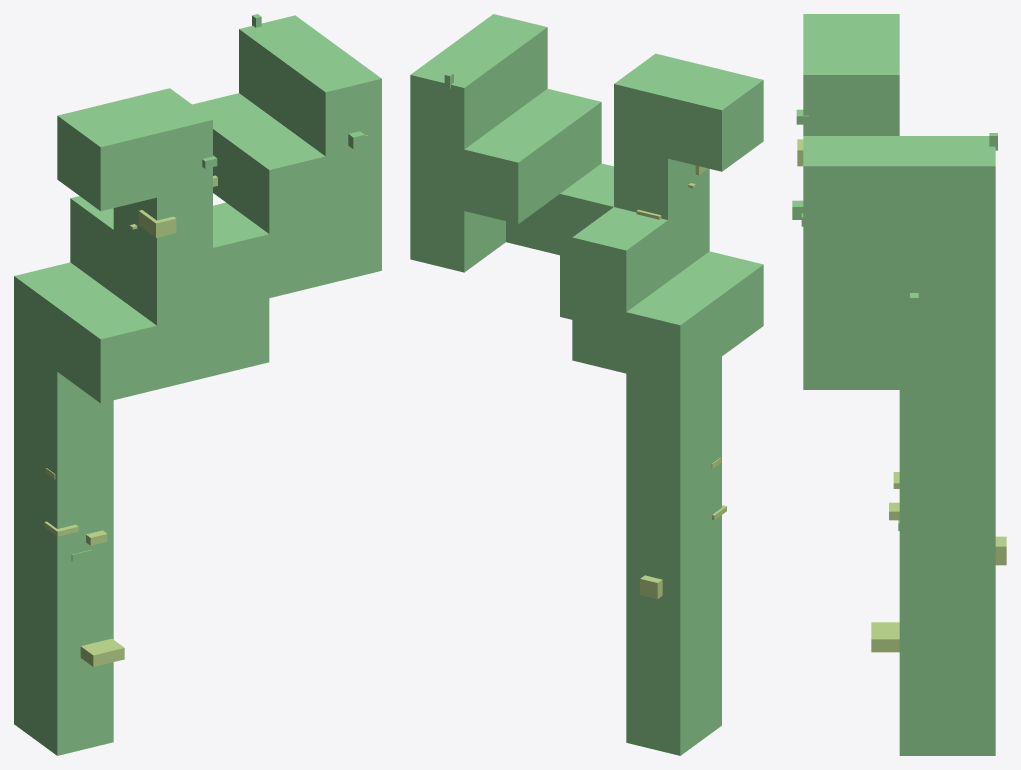
The model's file is thorny-vine-branching-tawpshelf_0ch9VWi-_AR-blocky.glb.
The picture shows the model from 3 angles, left to right: view 1: azimuth 30°, elevation 25°; view 2: azimuth 150°, elevation 25°; view 3: azimuth 270°, elevation 25°; orthographic projection. The views are drawn at different scales.
Visible parts, largest first — view 1: group2010779885, group2038800451, group2032238051; view 2: group2010779885; view 3: group2010779885, group2038800451.
Boxes of the visible parts, left/top/right/bottom form: group2010779885: left=14, top=15, right=381, bottom=755; group2038800451: left=80, top=638, right=124, bottom=666; group2032238051: left=138, top=210, right=176, bottom=237; group2010779885: left=410, top=14, right=763, bottom=755; group2010779885: left=803, top=14, right=995, bottom=755; group2038800451: left=871, top=622, right=899, bottom=652.
Size of the model in its own units: 2.37 by 5.02 by 1.35.
